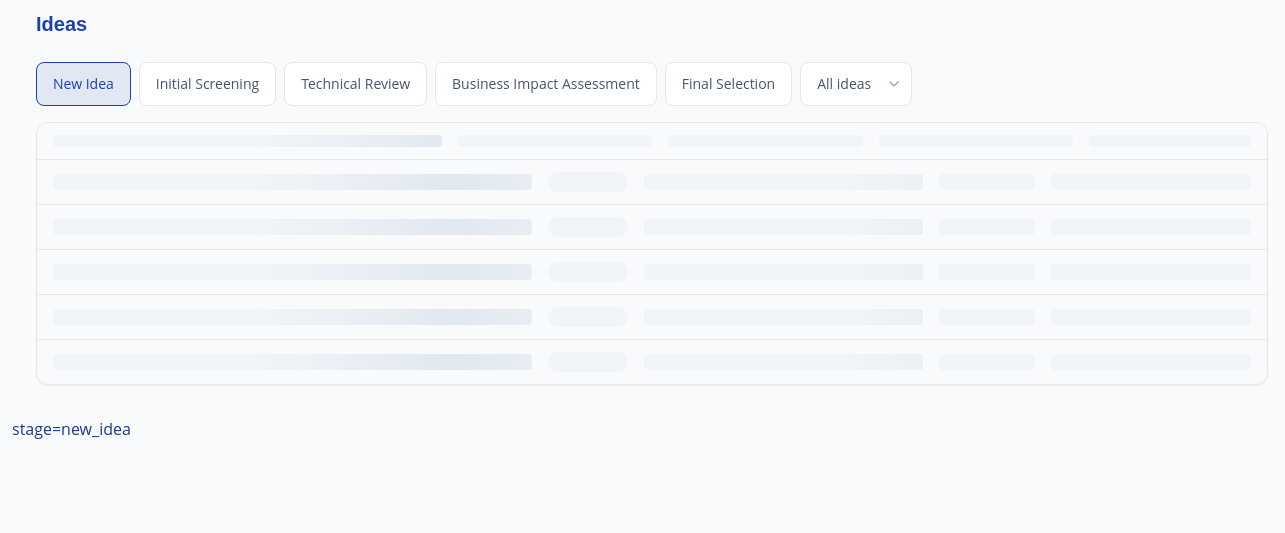
Test case: IdeasPage — StageFilterCards URL persistence › deselect all → no stage= in URL
The image size is (1285, 533).
Click the button "New Idea" at (83, 84), box [36,62,131,106]
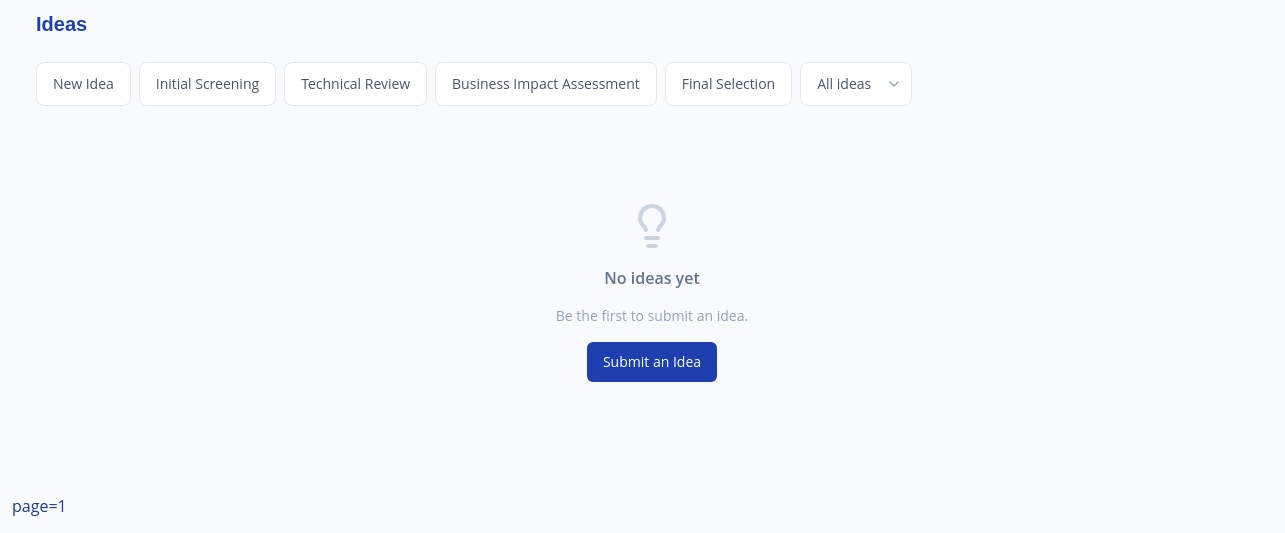
Expected: the text with test id "search-params" no longer shows "stage="
